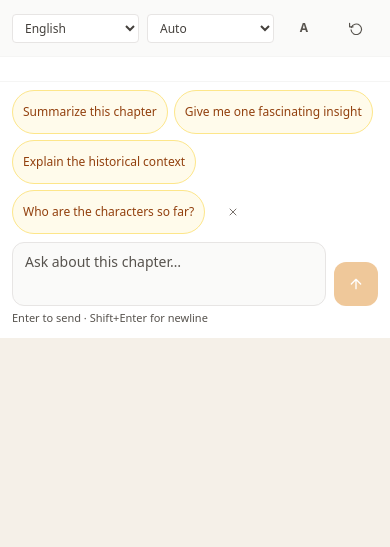
Retry re-sends the same question without duplicating the user bubble
This screenshot has width=390, height=547.
Type "Why the wager?" into the text box.
click(169, 274); type("Why the wager?")  # box 12,242 -> 326,306
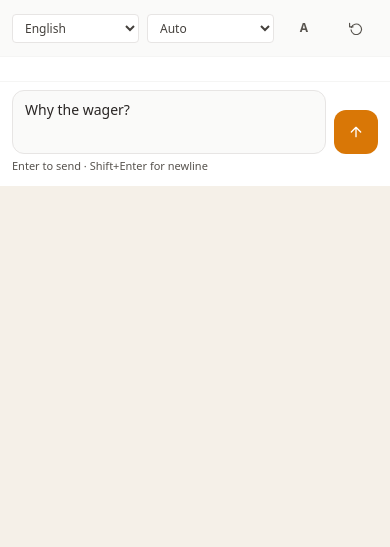
Click the button named "send".
click(356, 132)  # box 334,110 -> 378,154
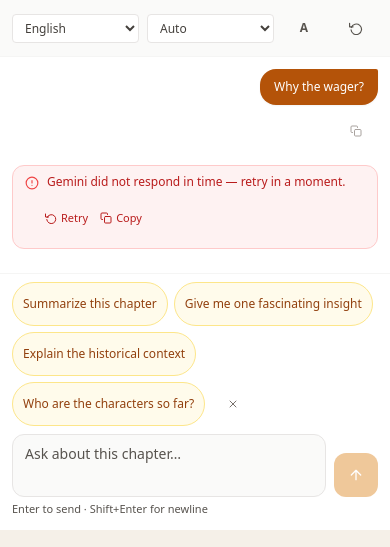
Click the button "Retry".
click(67, 218)  # box 45,196 -> 88,240
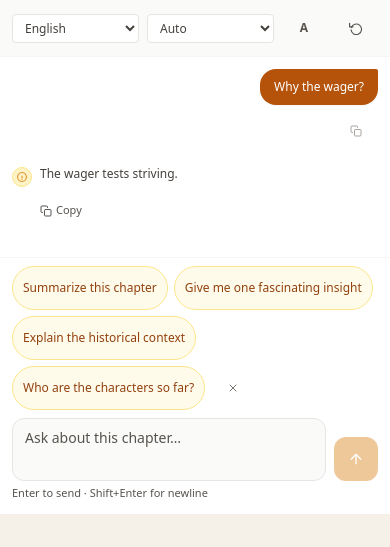
Expected: the text "Why the wager?" is shown once, 260,69 -> 378,104
Expected: the text "The wager tests striving." is shown, 39,164 -> 178,182
Expected: the message "Gemini did not respond in time — retry in a moment. Retry Copy" is gone
